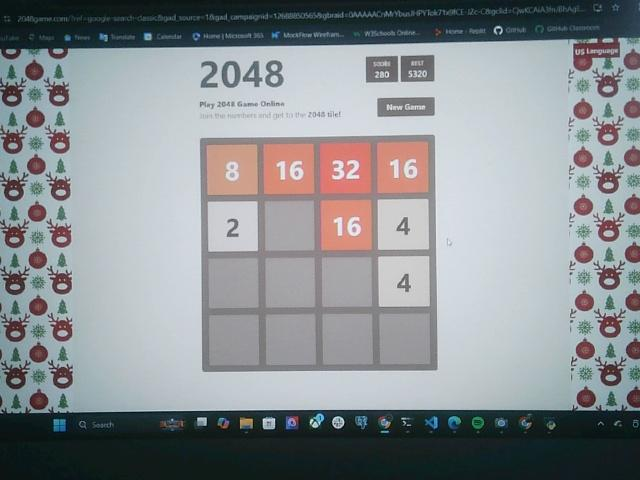board: (200, 137, 435, 370)
tile: (320, 199, 373, 251), (378, 256, 431, 308), (262, 143, 315, 194), (321, 142, 371, 195), (378, 198, 429, 249), (207, 145, 258, 195), (378, 143, 428, 194), (209, 202, 258, 253)
